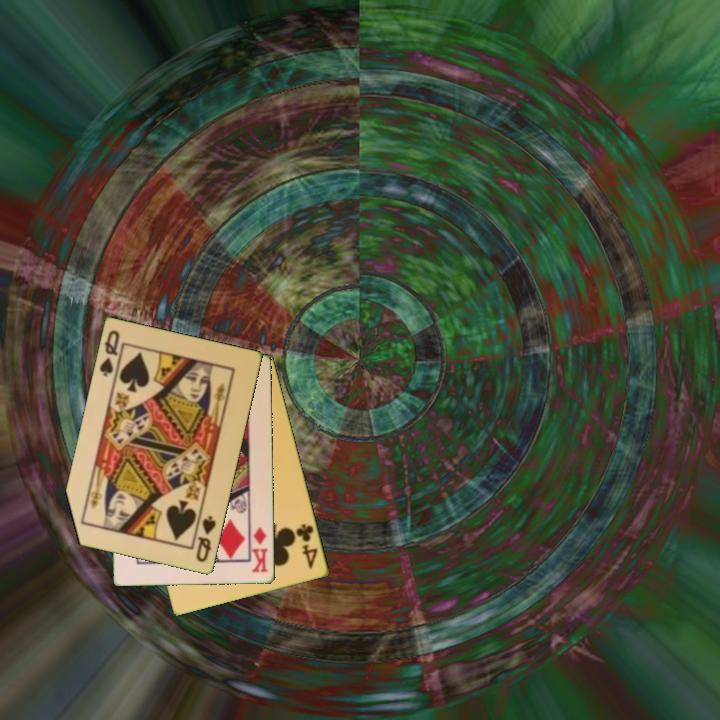4c: (292, 520, 321, 572)
Kd: (248, 521, 271, 575)
Qs: (96, 327, 123, 380), (193, 512, 219, 565)
